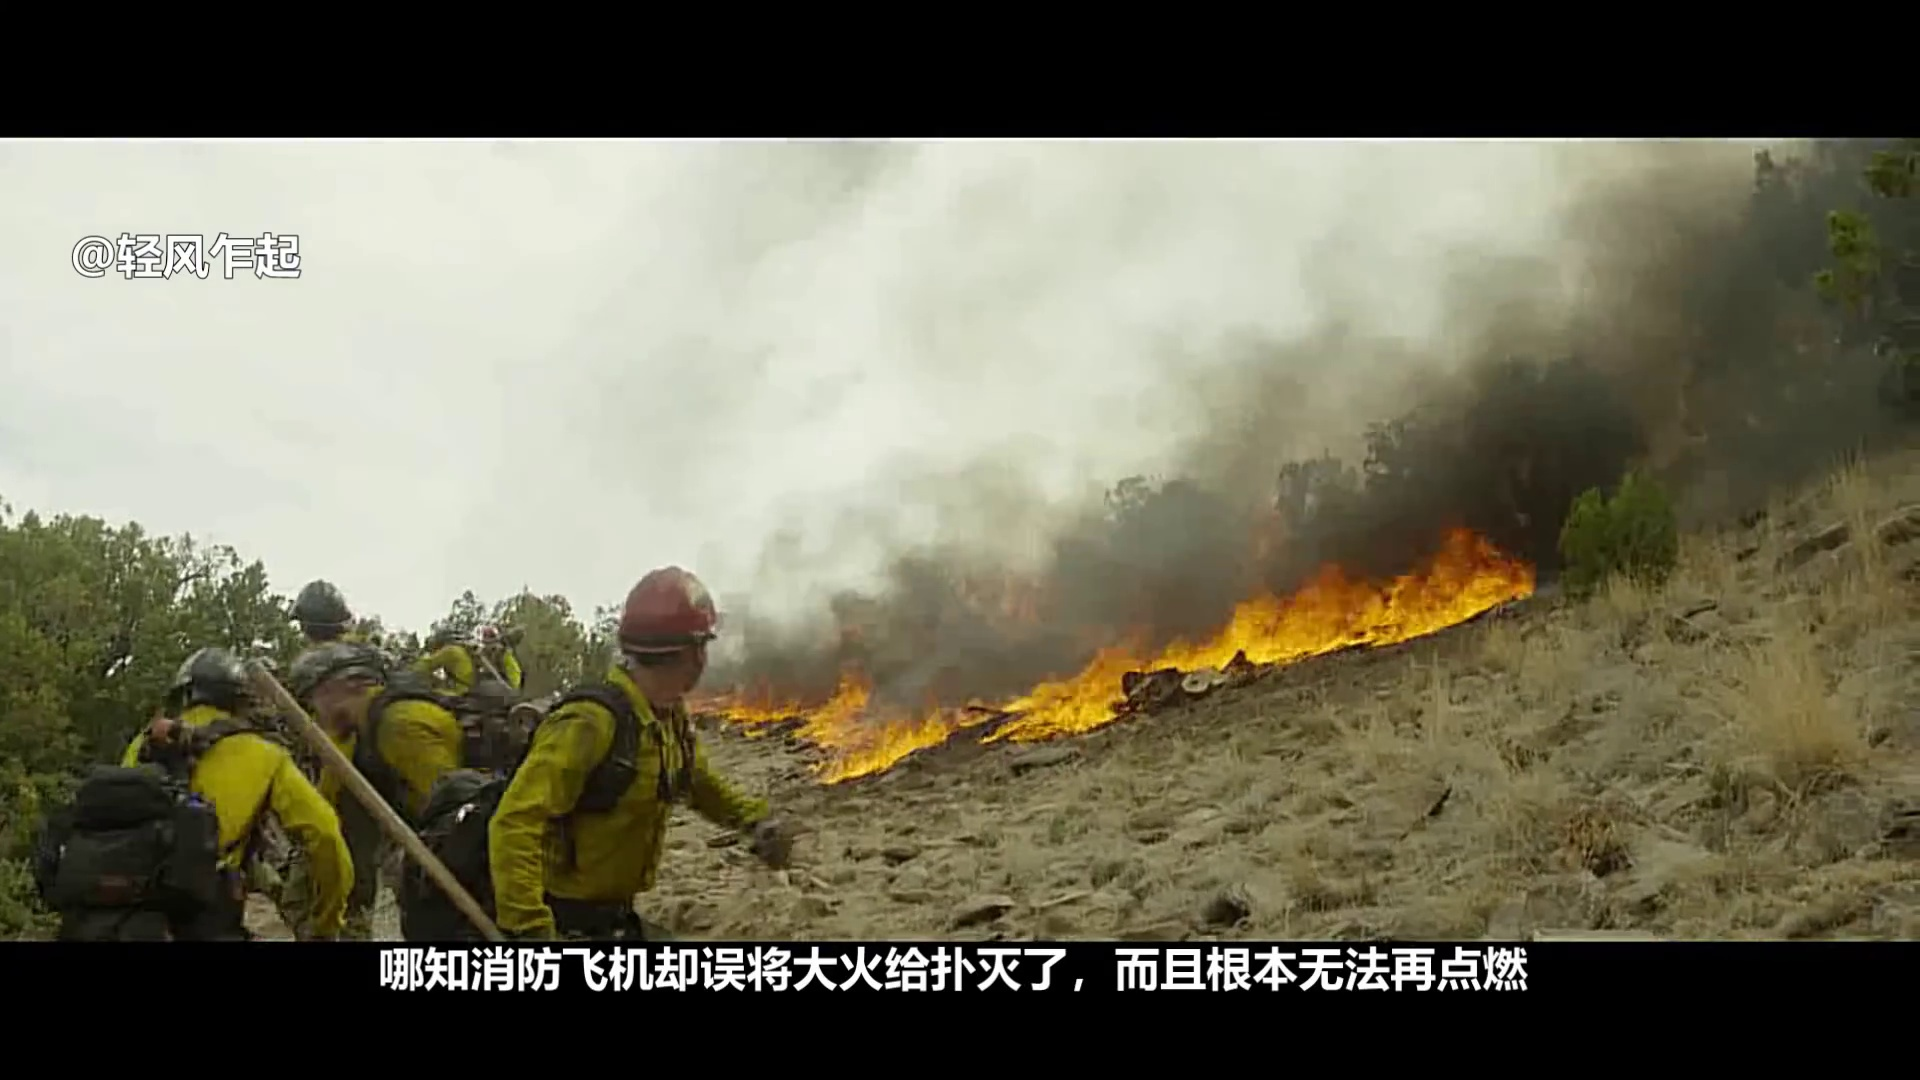fire: (1221, 545, 1522, 667), (1030, 669, 1130, 719), (840, 729, 942, 760)
